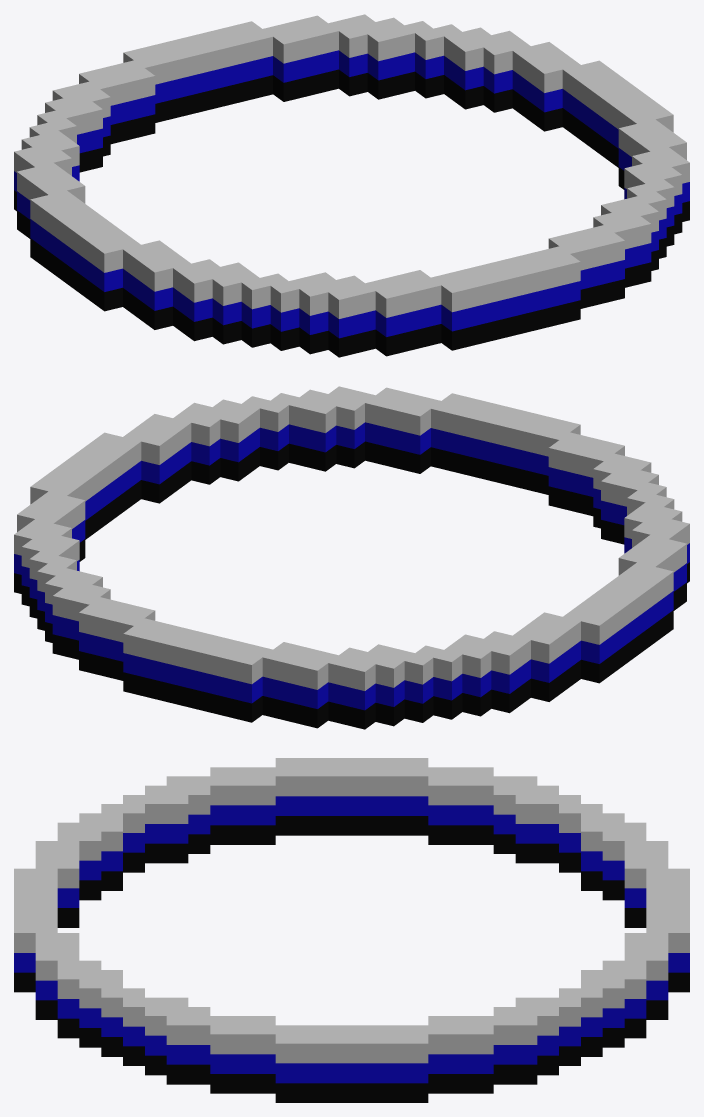
The model's file is battle_zone_ring_blue.obj.
3 views of the same model, one above another, from view 1: azimuth 30°, elevation 25°; view 2: azimuth 150°, elevation 25°; view 3: azimuth 270°, elevation 25° (orthographic). The views are drawn at different scales.
Parts seen in each view (by area): view 1: battle_zone_ring_blue; view 2: battle_zone_ring_blue; view 3: battle_zone_ring_blue.
Boxes of the visible parts, <box> form: battle_zone_ring_blue: <box>14,14,689,357</box>; battle_zone_ring_blue: <box>14,386,689,729</box>; battle_zone_ring_blue: <box>14,758,689,1102</box>.
Size of the model in its own units: 31 by 3 by 31.
1 material, 1 textured.
